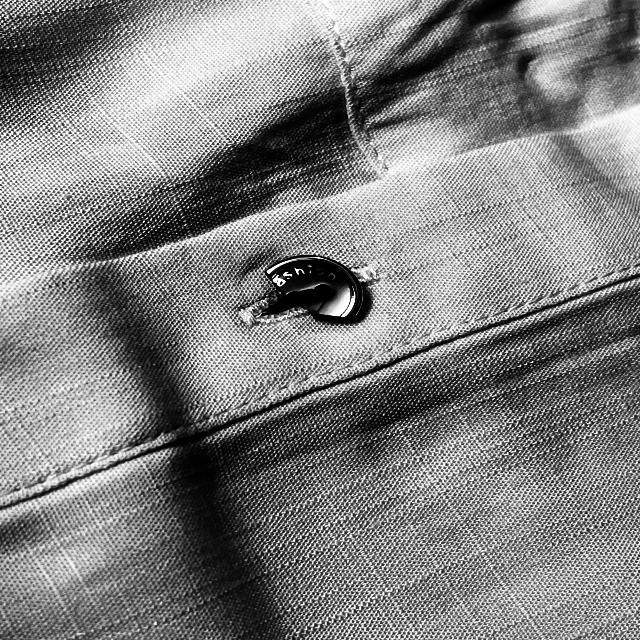Broken_button: (244, 248, 373, 335)
